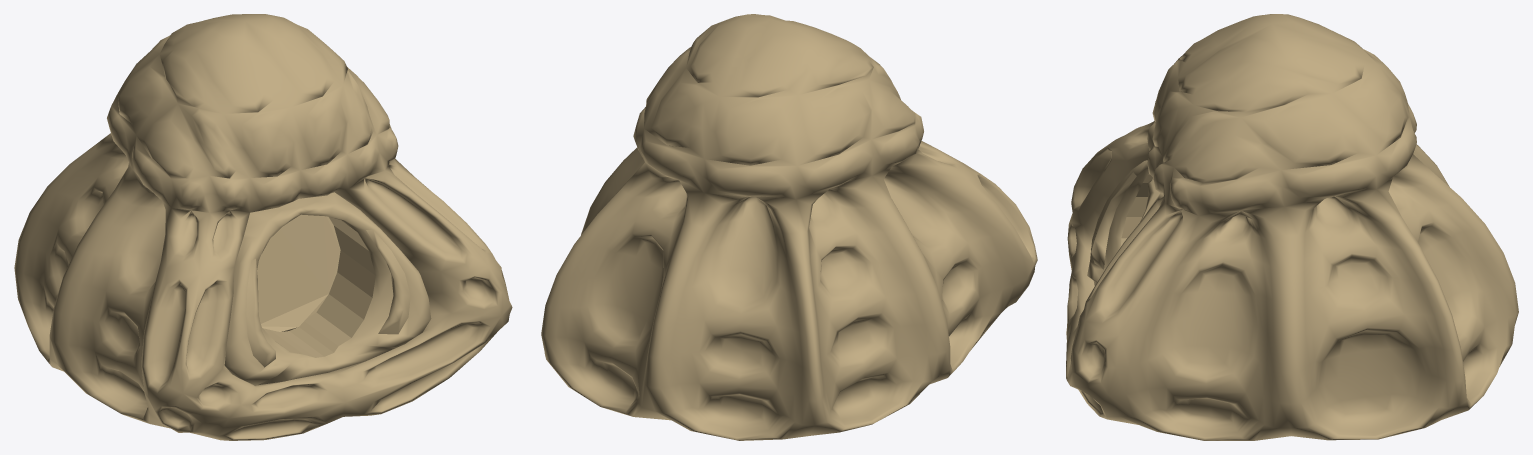
The model's file is Telenemy_7_body.fbx.
3 renders of one model, left to right at view 1: azimuth 30°, elevation 25°; view 2: azimuth 150°, elevation 25°; view 3: azimuth 270°, elevation 25°, orthographic. The views are drawn at different scales.
Visible parts, largest first — view 1: telenemy body001; view 2: telenemy body001; view 3: telenemy body001.
Boxes of the visible parts, <box> form: telenemy body001: <box>14,14,512,440</box>; telenemy body001: <box>541,14,1037,440</box>; telenemy body001: <box>1066,14,1518,440</box>.
Bounding box in the file's own units: 118 × 104 × 122.
